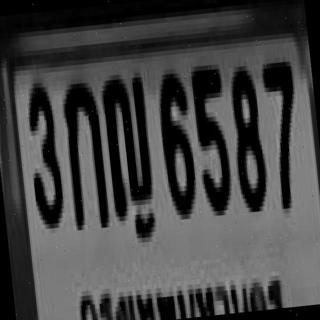A01: (59, 77, 108, 226)
A13: (99, 65, 155, 219)
N03: (22, 77, 64, 225)
N05: (188, 59, 232, 212)
N06: (153, 68, 197, 216)
N07: (259, 57, 304, 210)
N08: (226, 60, 268, 208)
